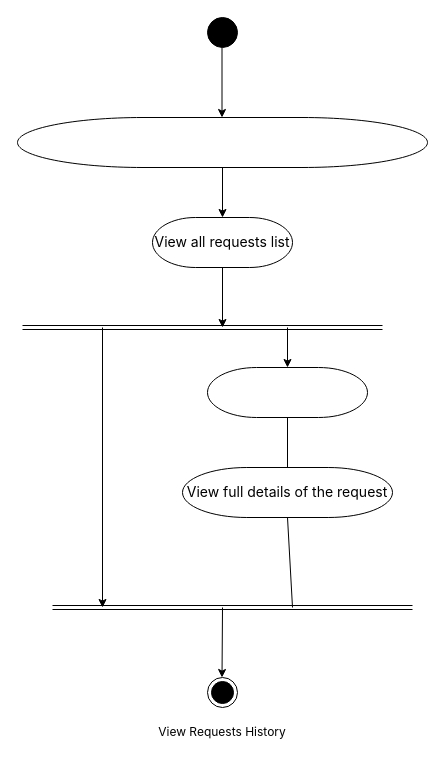
Some shapes in this 445 by 765 pixel diagram are drawn without their labels. The centre of each missing label's shape, as x and y in pixels:
Click on a request: the point at 287,392
Navigate to profile page or My Requests page: the point at 222,142
